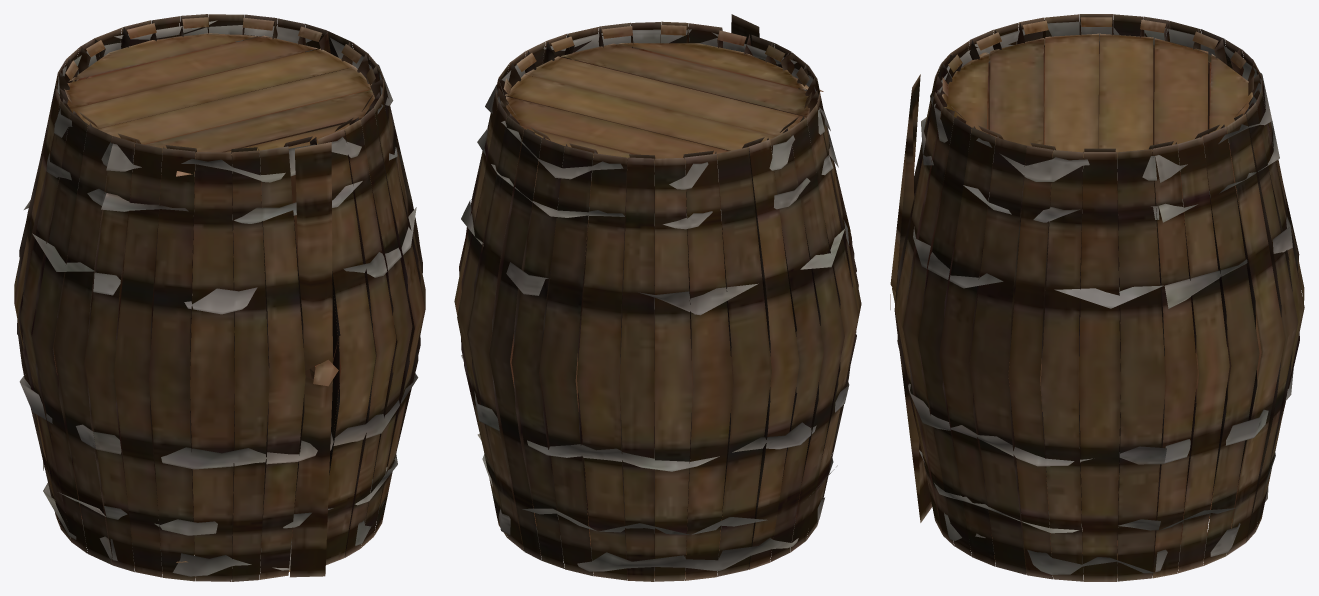
File: barrel.glb
The picture shows the model from 3 angles, left to right: view 1: azimuth 30°, elevation 25°; view 2: azimuth 150°, elevation 25°; view 3: azimuth 270°, elevation 25°; orthographic projection.
Visible parts, largest first — view 1: wine_barrel_01_Lid; view 2: wine_barrel_01_Lid; view 3: wine_barrel_01_Lid.
Part boxes in pixels (box(x1,y1,x2,y2)): wine_barrel_01_Lid: box(14, 14, 425, 581); wine_barrel_01_Lid: box(454, 14, 861, 581); wine_barrel_01_Lid: box(890, 14, 1304, 581).
Bounding box in the file's own units: 0.7573 × 0.8841 × 0.7597.
1 material, 1 textured.
